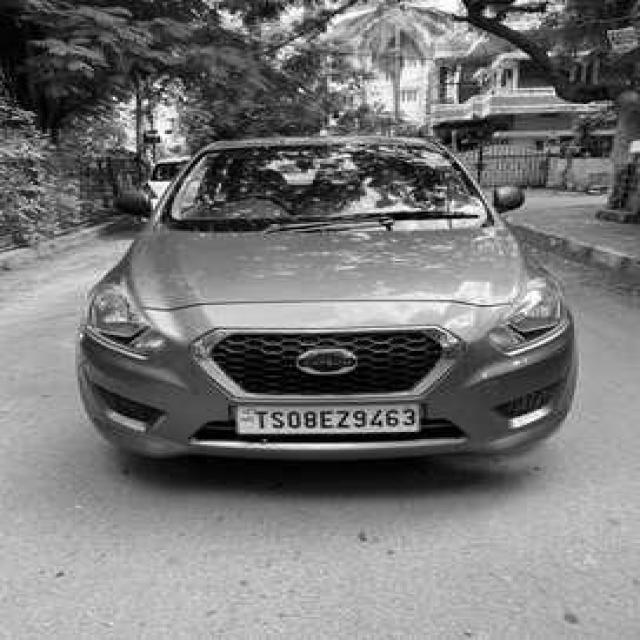car: (75, 132, 579, 469)
license-plate: (233, 400, 423, 434)
